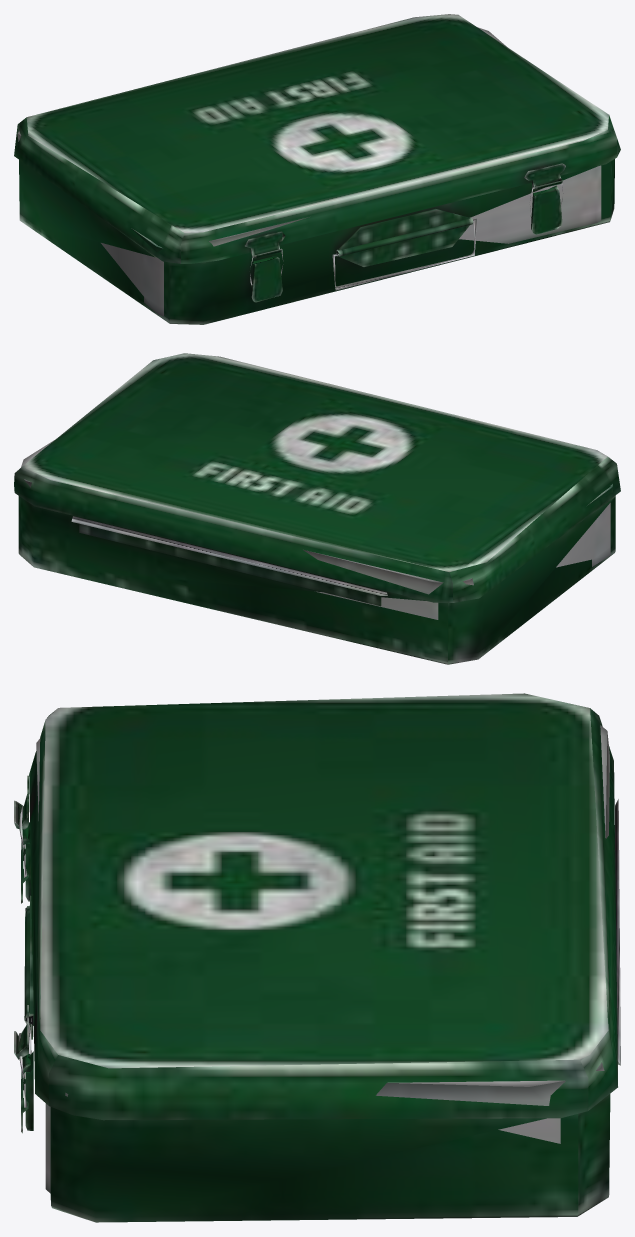
Rendered from soin.glb.
3 renders of one model, top to bottom at view 1: azimuth 30°, elevation 25°; view 2: azimuth 150°, elevation 25°; view 3: azimuth 270°, elevation 25°, orthographic. The views are drawn at different scales.
Visible parts, largest first — view 1: medical_box_latch; view 2: medical_box_latch; view 3: medical_box_latch.
Part boxes in pixels (x1,y1,x2,y2): medical_box_latch: (14, 14, 620, 324); medical_box_latch: (14, 353, 620, 664); medical_box_latch: (14, 693, 620, 1222).
Size of the model in its own units: 0.52 by 0.0967 by 0.3478.
1 material, 1 textured.
